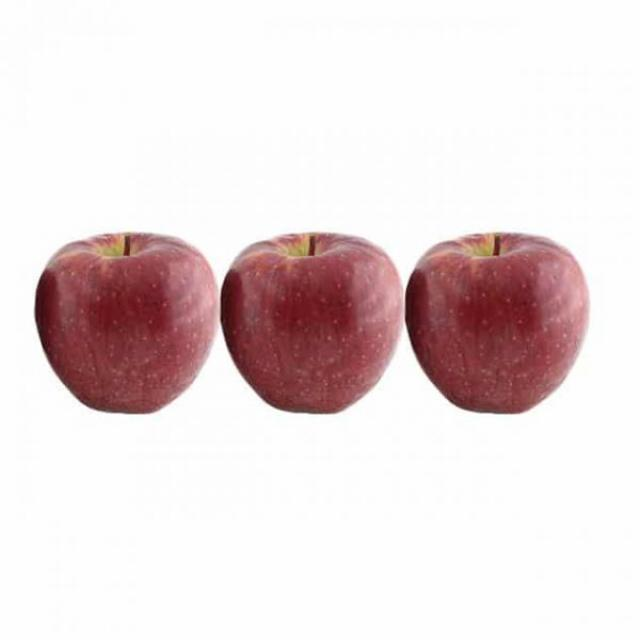apple: (32, 227, 217, 419), (405, 231, 594, 418), (220, 230, 403, 417)
